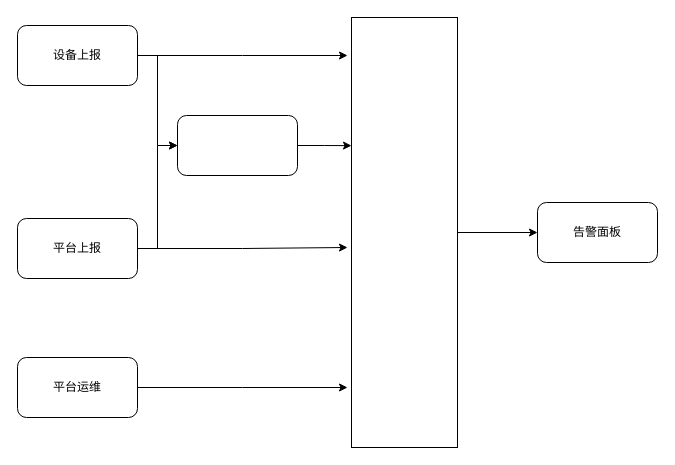
This 675x465 diagram has some shape labels left out. The shapes that lost their labels are listed below. From the top down, each one's centre as x and y in pixels, then its label:
point (237, 145): 规则引擎
point (404, 232): 告警中心
